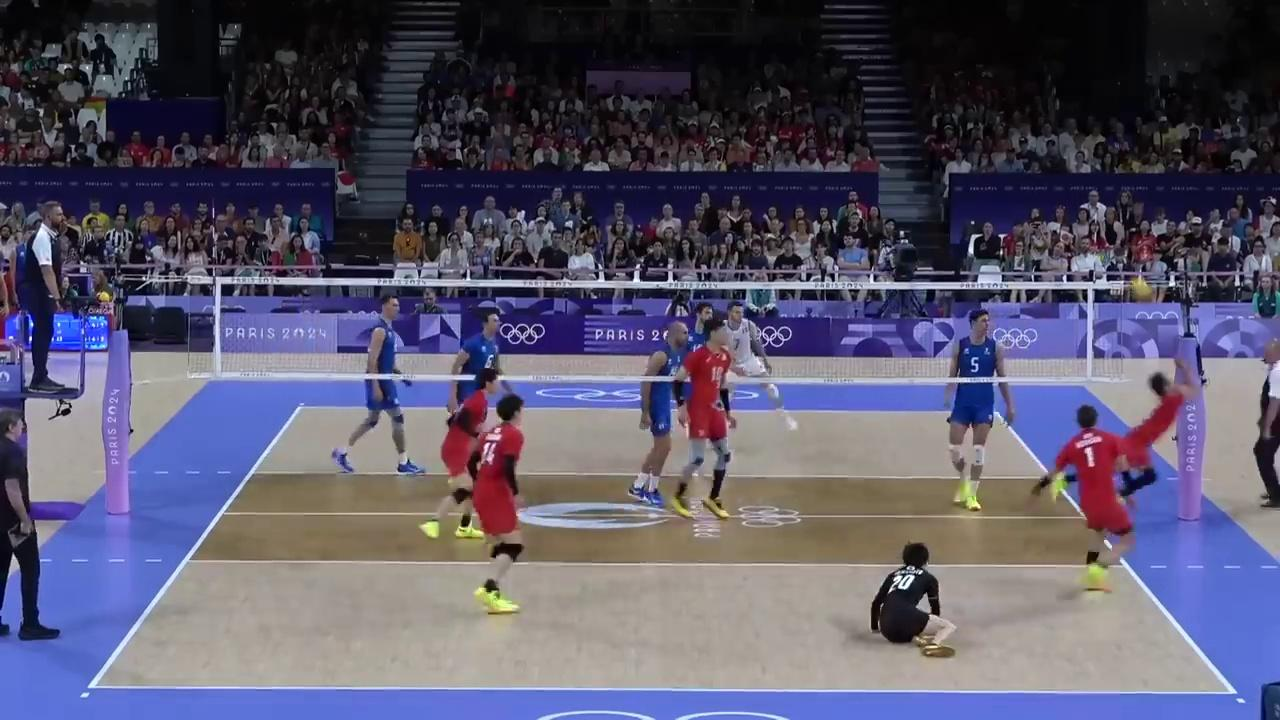ball: (1131, 279, 1153, 298)
